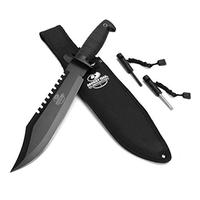knife: (6, 17, 111, 179)
